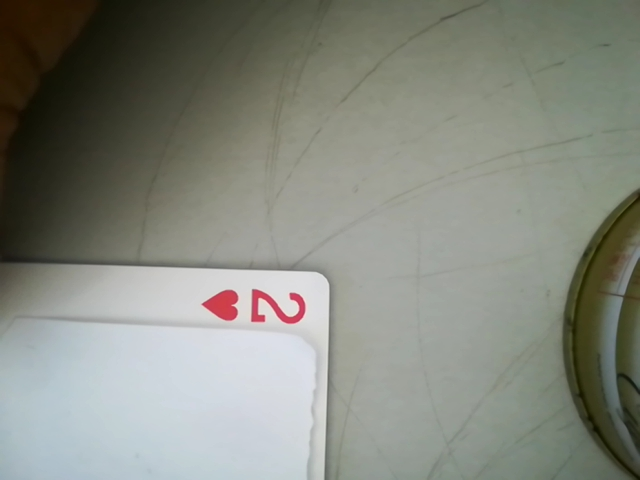hx 2: (196, 278, 321, 331)
